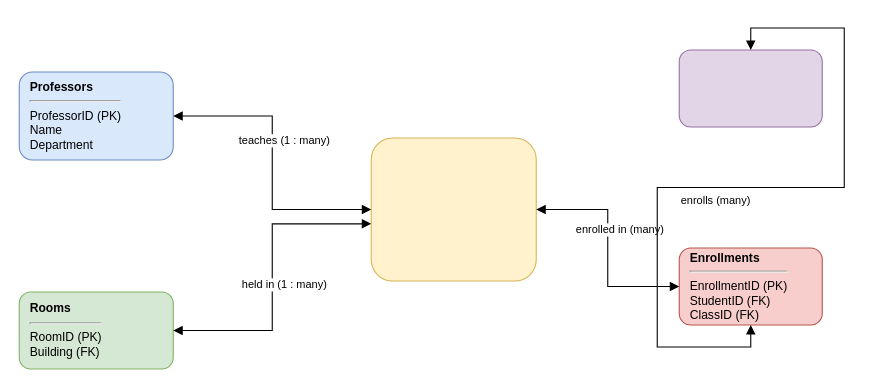
Some shapes in this 873 by 388 pixel diagram are drawn without their labels. The box of each missing label's shape, as (x1, y1, x2, y2) in pixels:
Classes ClassID (PK) CourseName Subject MeetingTime ProfessorID (FK) RoomID (FK): (370, 137, 536, 281)
Students StudentID (PK) Name Major: (678, 49, 822, 127)
